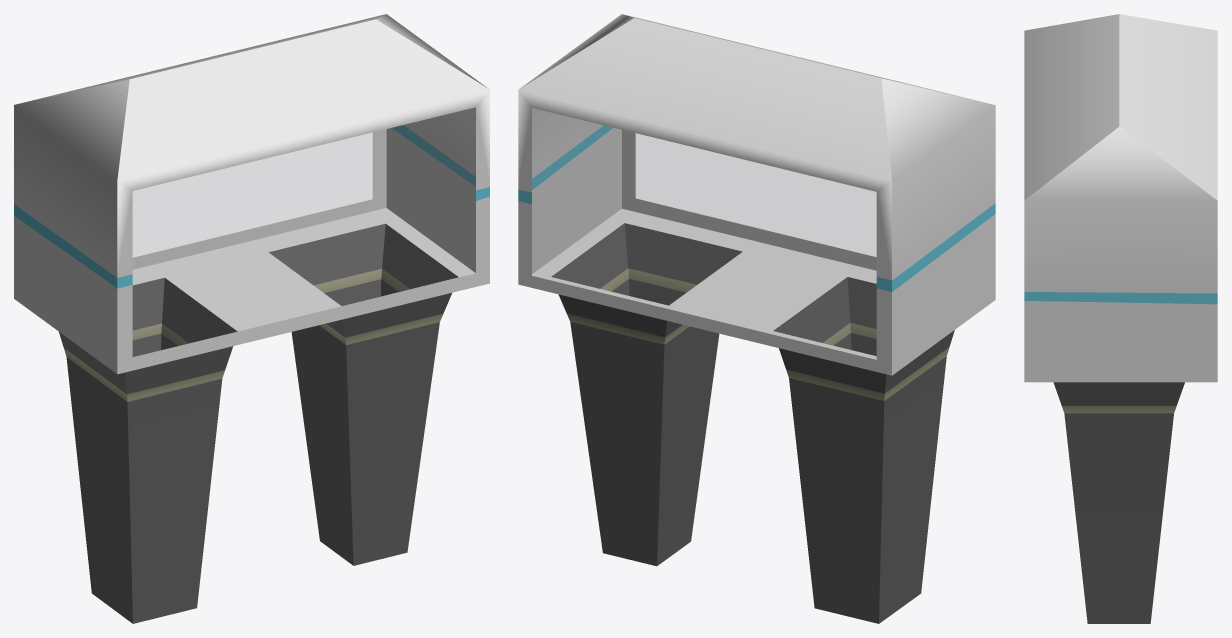
The model's file is futureHouse1.fbx.
The picture shows the model from 3 angles, left to right: view 1: azimuth 30°, elevation 25°; view 2: azimuth 150°, elevation 25°; view 3: azimuth 270°, elevation 25°; orthographic projection. The views are drawn at different scales.
Parts seen in each view (by area): view 1: future_House1_pCube1; view 2: future_House1_pCube1; view 3: future_House1_pCube1.
Boxes of the visible parts, left/top/right/bottom form: future_House1_pCube1: left=14, top=14, right=489, bottom=623; future_House1_pCube1: left=518, top=14, right=995, bottom=623; future_House1_pCube1: left=1024, top=14, right=1217, bottom=623.
Size of the model in its own units: 6.16 by 8.29 by 2.96.
